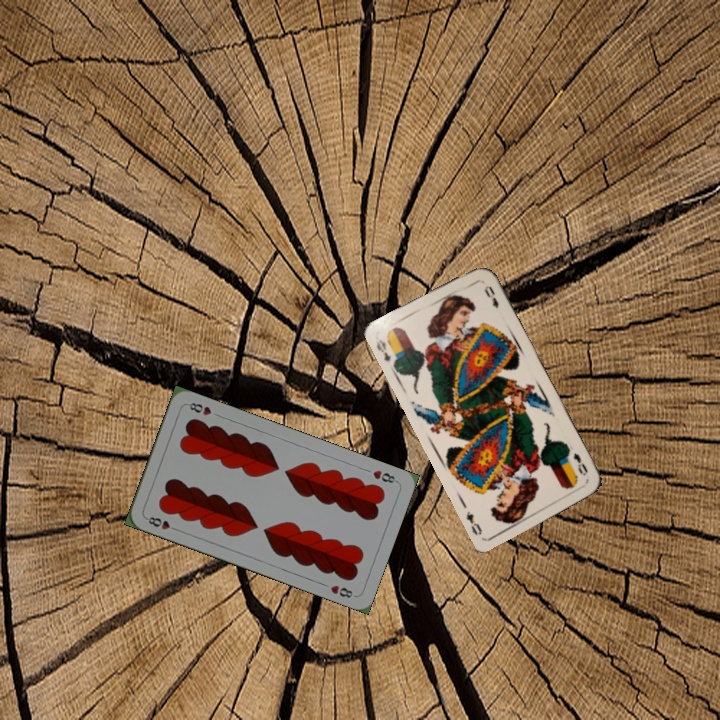EO: (569, 449, 590, 478), (372, 335, 393, 364)
H8: (142, 512, 181, 533), (369, 466, 400, 486)
